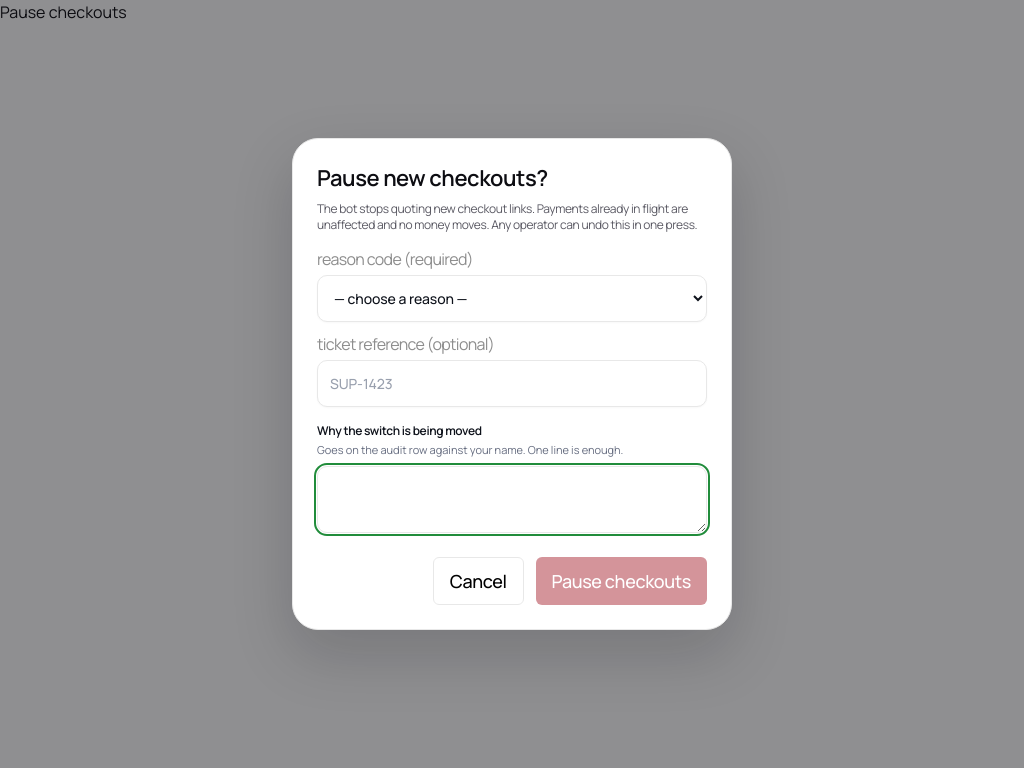
Test: RailPauseDialog › renders a 403 with no details as a plain refusal, never as a password box
Select "incident" in the dropdown with test id "reason-code": {"x": 512, "y": 299} [317,275,707,322]
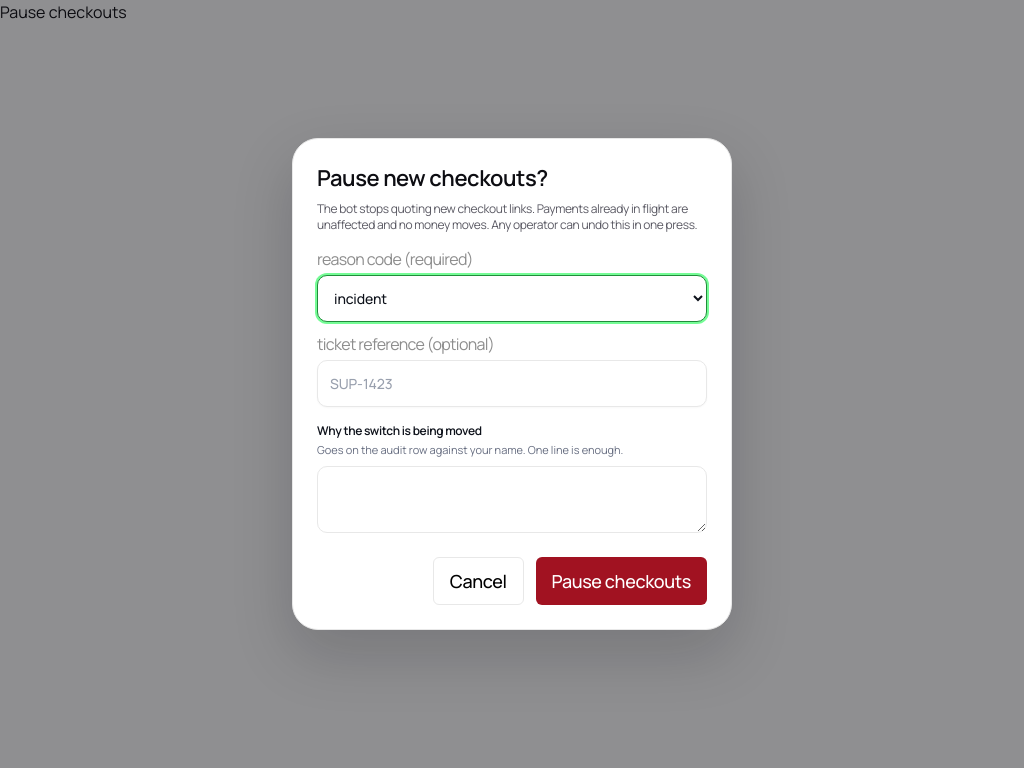
Click the button "Pause checkouts": {"x": 621, "y": 582} [536,558,707,606]
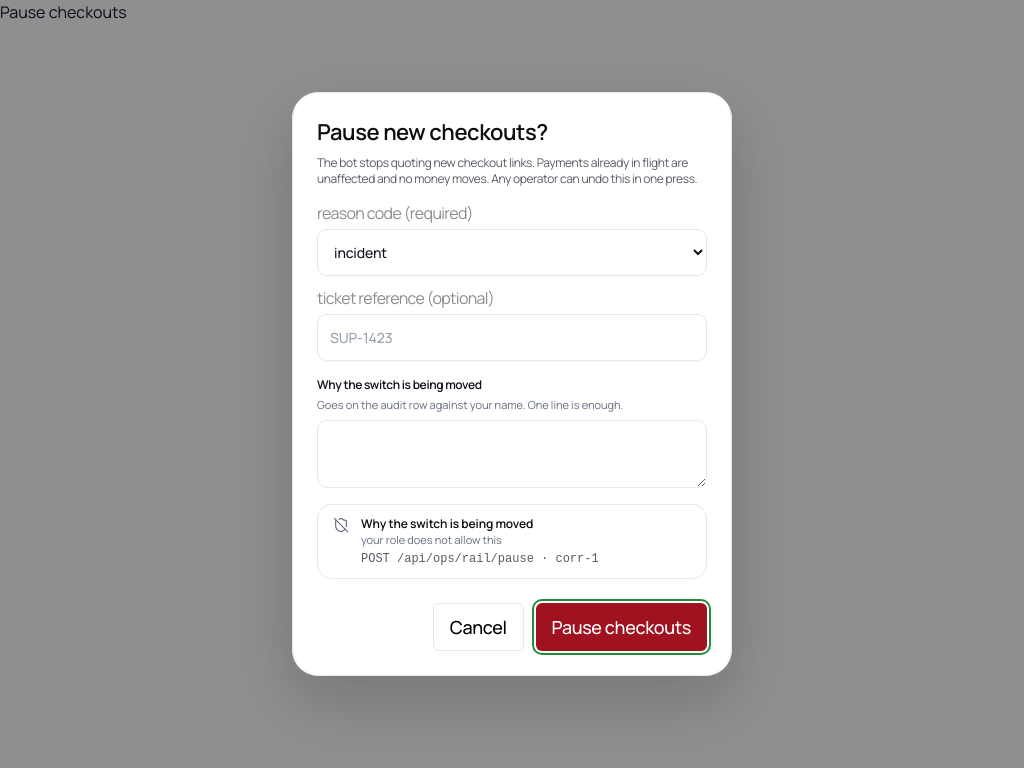
Expected: the text with test id "rail-pause-state" reads "Pause checkouts", [0,1,127,23]
Expected: the text "your role does not allow this" is shown, [361,532,502,547]
